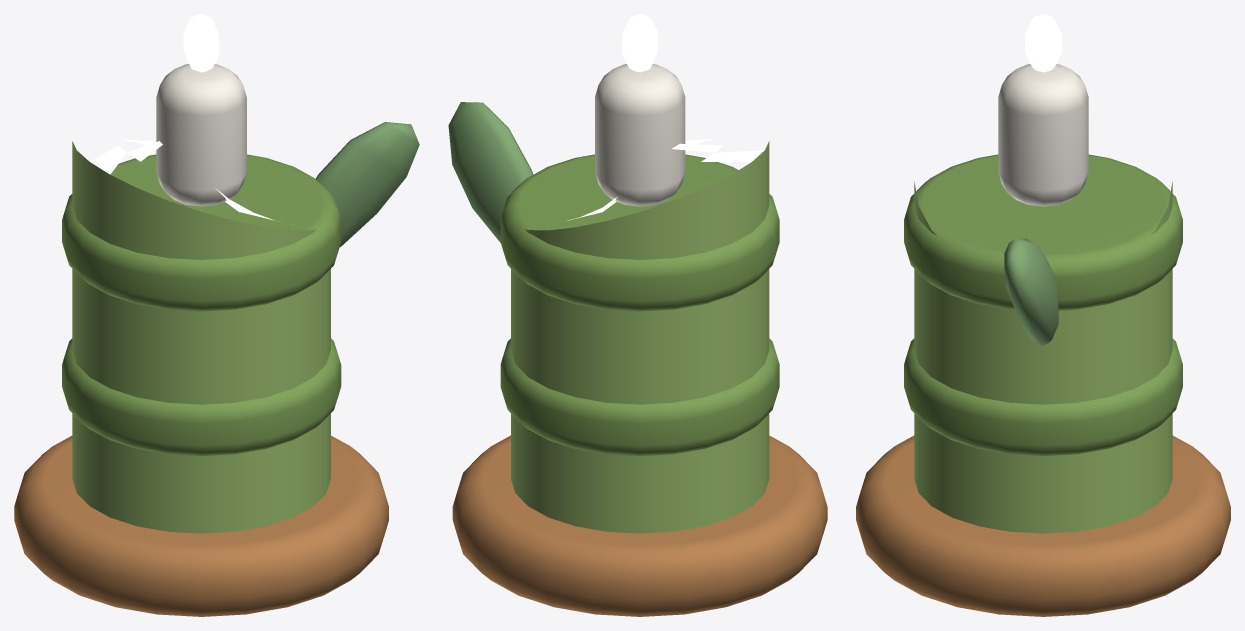
Rendered from bamboo_candle_cup.glb.
3 renders of one model, left to right at view 1: azimuth 30°, elevation 25°; view 2: azimuth 150°, elevation 25°; view 3: azimuth 270°, elevation 25°, orthographic.
Parts seen in each view (by area): view 1: bamboo_candle_cup_mesh; view 2: bamboo_candle_cup_mesh; view 3: bamboo_candle_cup_mesh.
Part boxes in pixels (<box>): bamboo_candle_cup_mesh: <box>14,14,419,616</box>; bamboo_candle_cup_mesh: <box>448,14,827,616</box>; bamboo_candle_cup_mesh: <box>856,14,1230,616</box>.
Bounding box in the file's own units: 0.2783 × 0.3875 × 0.2465.
